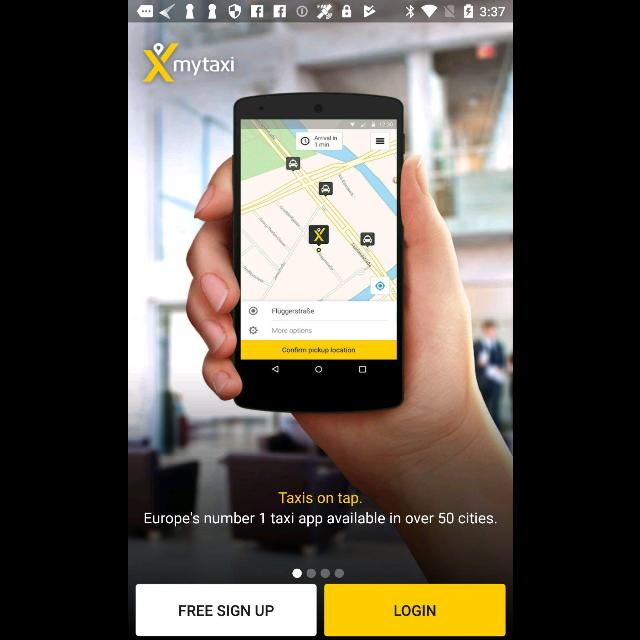backgroundimage: (128, 22, 512, 640)
image: (141, 44, 233, 82)
pageindicator: (292, 568, 344, 578)
text: (144, 511, 496, 527), (278, 492, 360, 506)
textbutton: (134, 584, 316, 636), (323, 584, 504, 636)
uppertaskbar: (128, 1, 512, 23)
